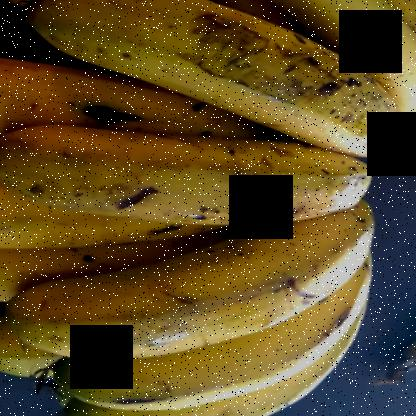ripe: (32, 3, 415, 155), (26, 199, 373, 356), (15, 113, 398, 233), (49, 281, 357, 415)
